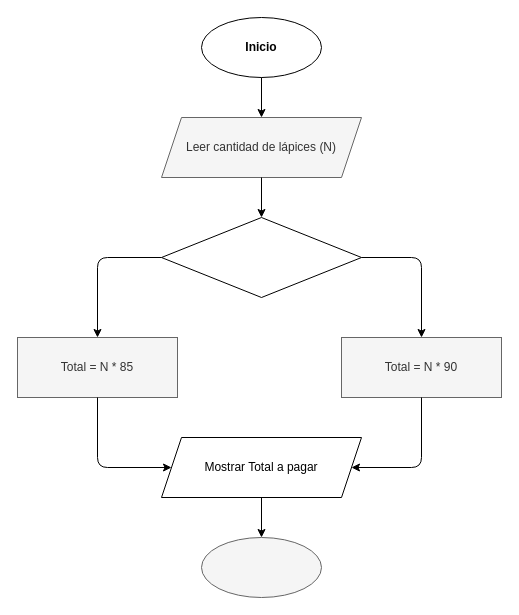
The diagram is 519 pixels wide and 615 high, and some of its shapes have lost their labels. The centre of each missing label's shape, as x and y in pixels:
"Fin" goes at point (261, 567).
"¿N >= 1000?" goes at point (261, 257).
